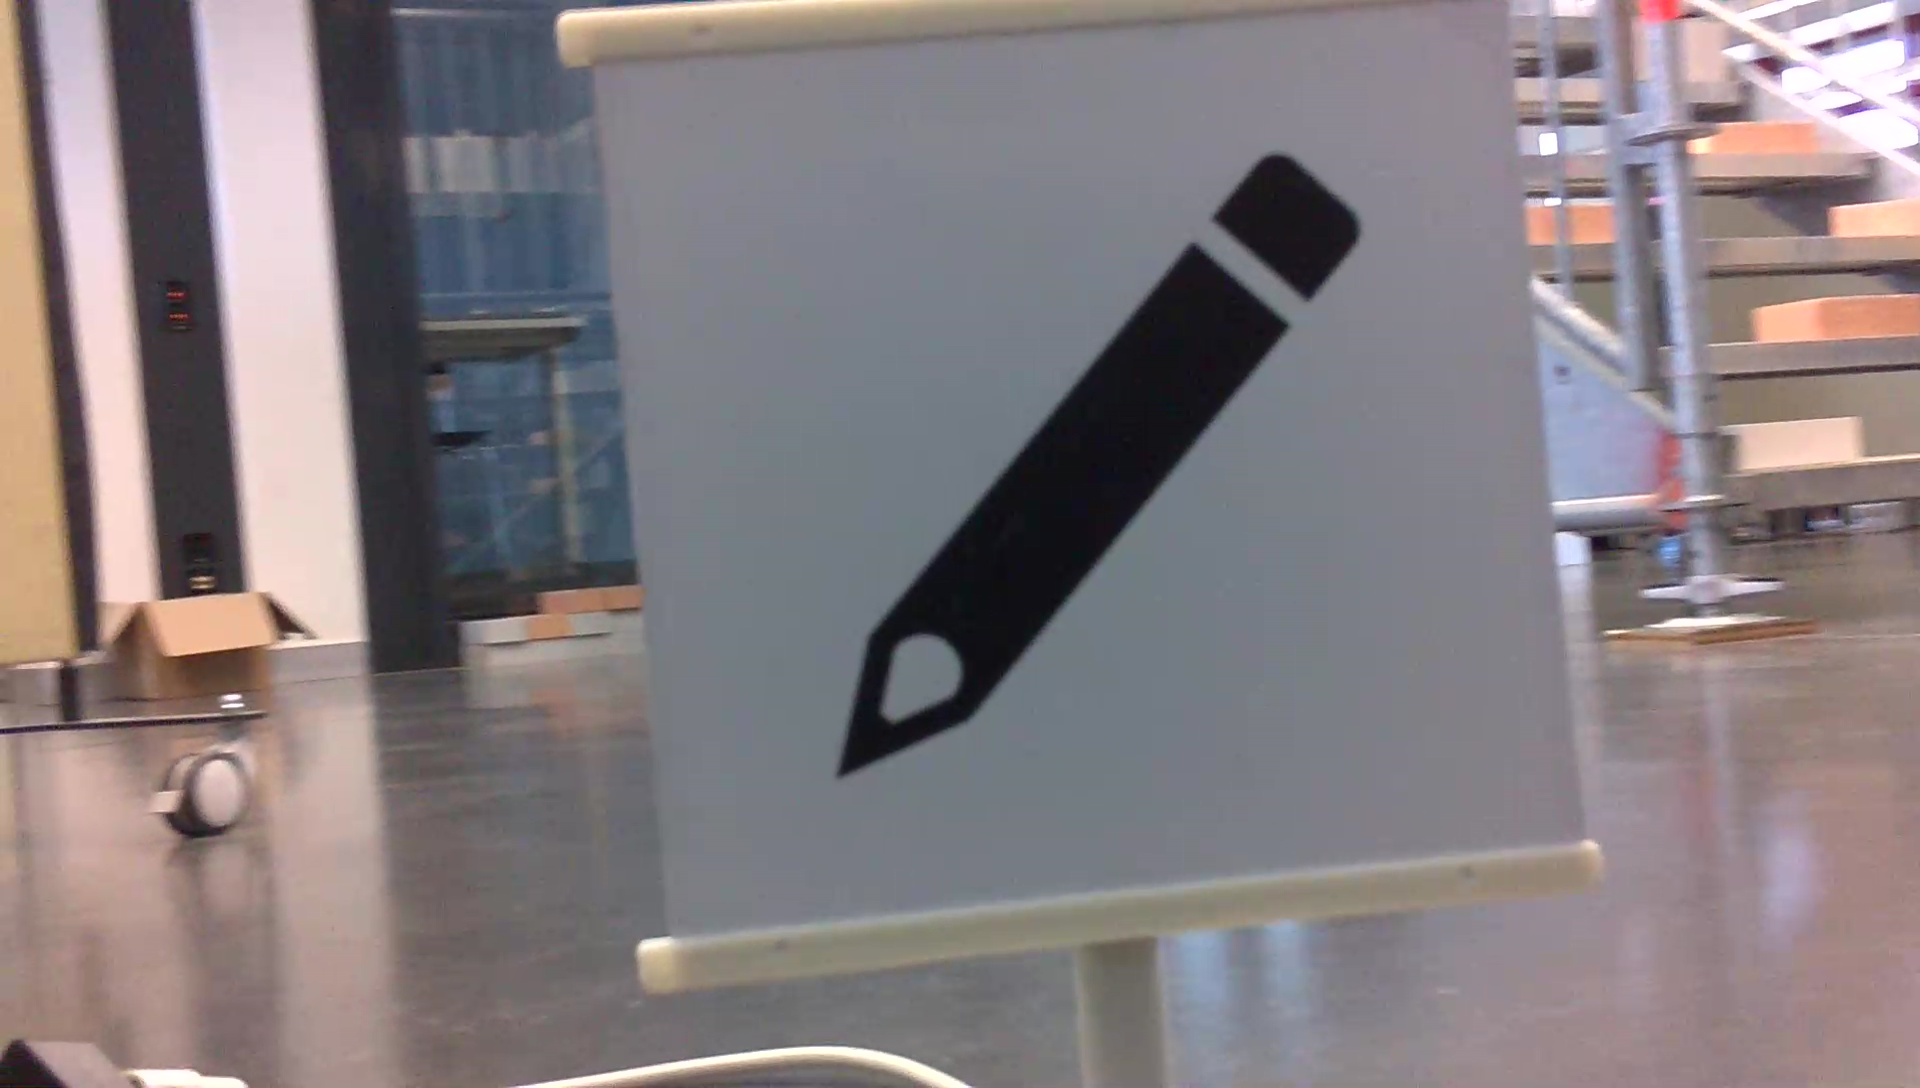brick: (1755, 295, 1917, 338), (1741, 419, 1853, 469), (1710, 120, 1817, 153), (1833, 196, 1917, 237), (1683, 22, 1722, 80)
edge: (1710, 338, 1920, 368), (1700, 235, 1920, 260), (1691, 156, 1880, 178)
pencil: (818, 135, 1375, 797)
